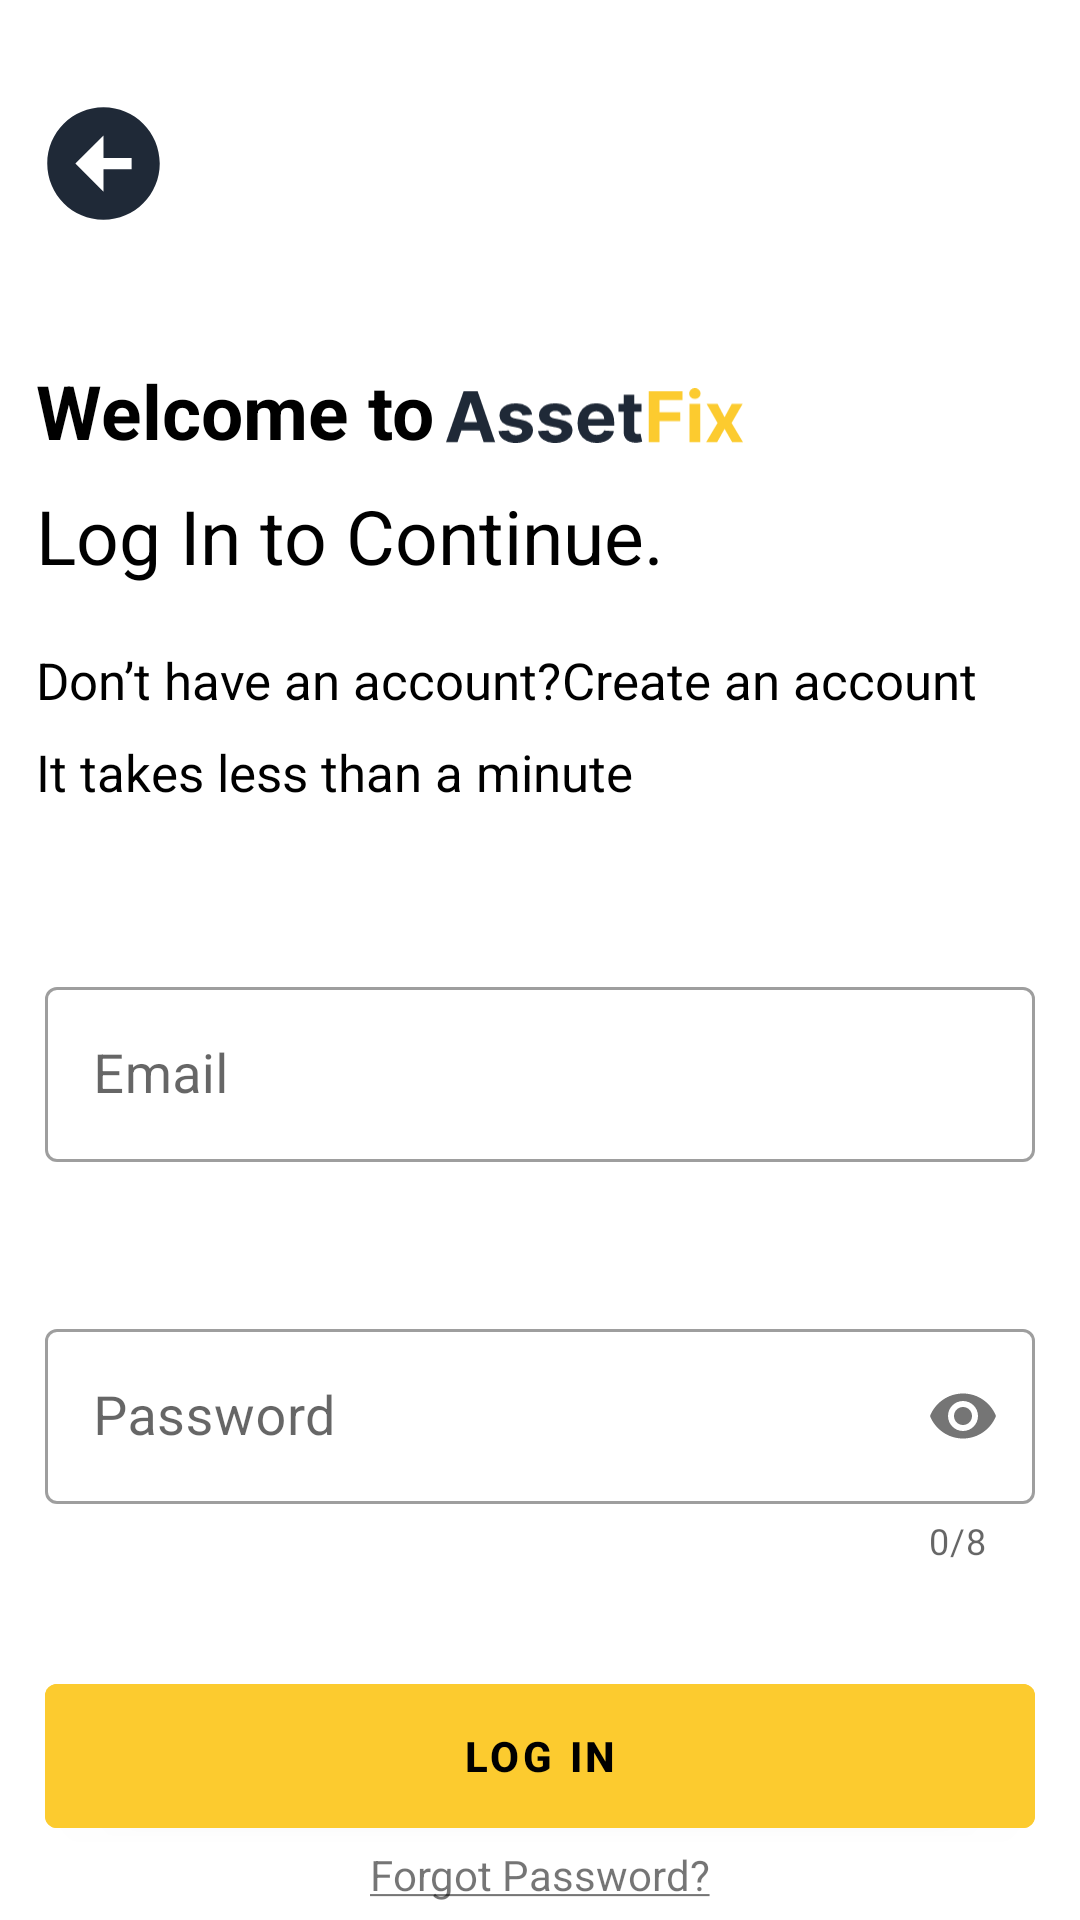

Screen size 1080px×1920px. Icon name, then its box in pixels as bbox=[x1, y1, x2, y2]:
backbutton: bbox=[47, 107, 160, 220]
